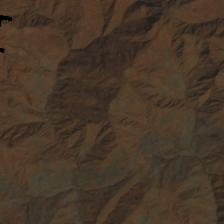landslides: (123, 129, 144, 138), (21, 115, 39, 123)
